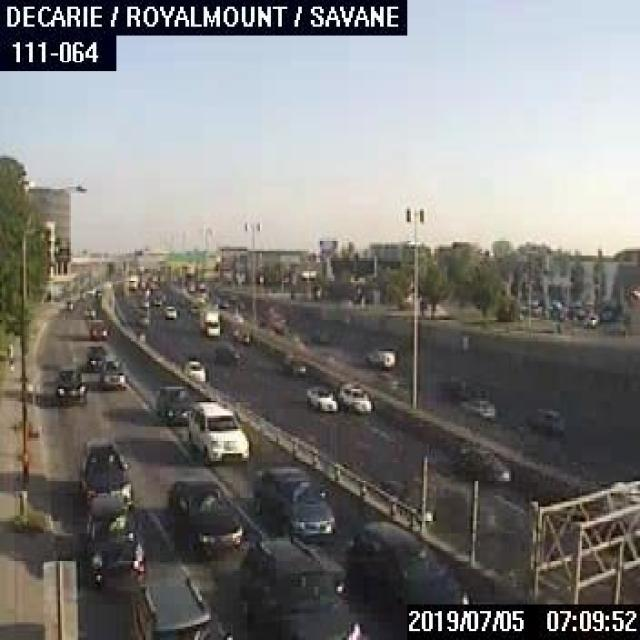pedestrian: (5, 339, 12, 368)
vehicle: (343, 522, 471, 638), (236, 538, 358, 638), (129, 569, 232, 638), (162, 476, 245, 555), (252, 463, 336, 538), (80, 494, 145, 590), (78, 435, 132, 511), (185, 400, 249, 463), (450, 440, 508, 483), (152, 381, 195, 425), (55, 367, 87, 405), (524, 406, 565, 435), (337, 382, 374, 413), (100, 354, 126, 388), (212, 340, 248, 364), (305, 384, 336, 411), (198, 303, 220, 335), (365, 344, 396, 366), (463, 396, 492, 418), (86, 344, 108, 371), (278, 352, 304, 373), (183, 356, 204, 382), (87, 317, 107, 337), (162, 303, 176, 318), (82, 303, 96, 317)
